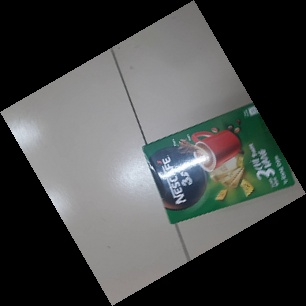Nes Rang: (139, 101, 298, 224)
